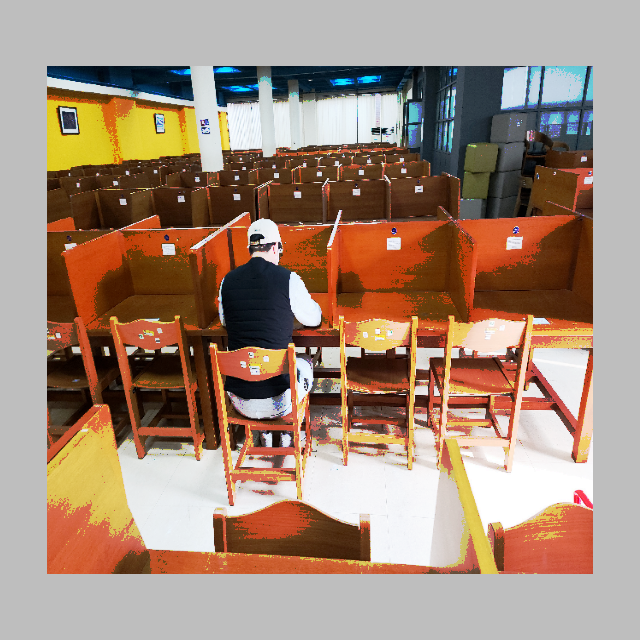empty: (333, 211, 465, 388), (471, 210, 590, 390)
full: (204, 210, 328, 425)
